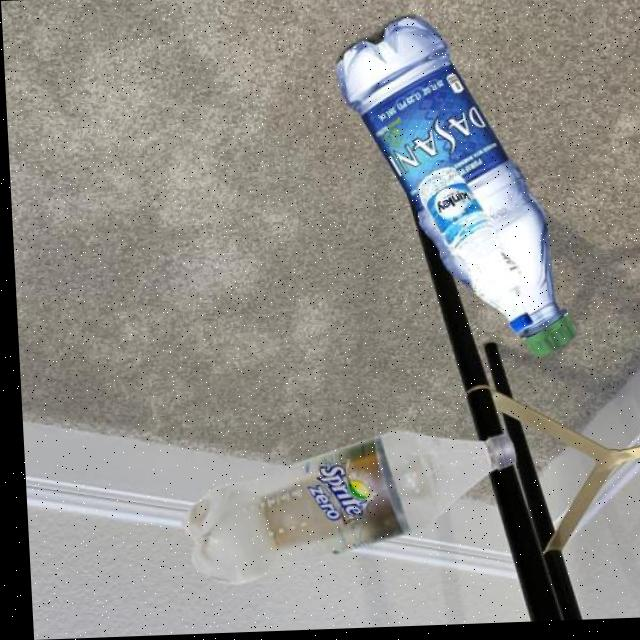bottle: (331, 15, 574, 368), (174, 427, 517, 590)
